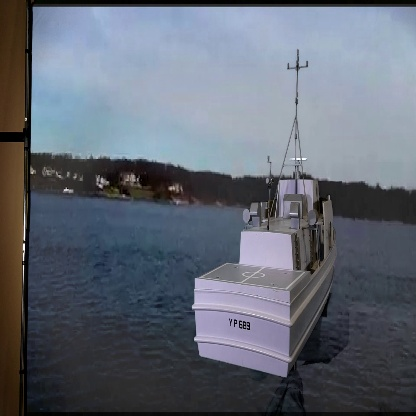YP689: (192, 52, 340, 378)
